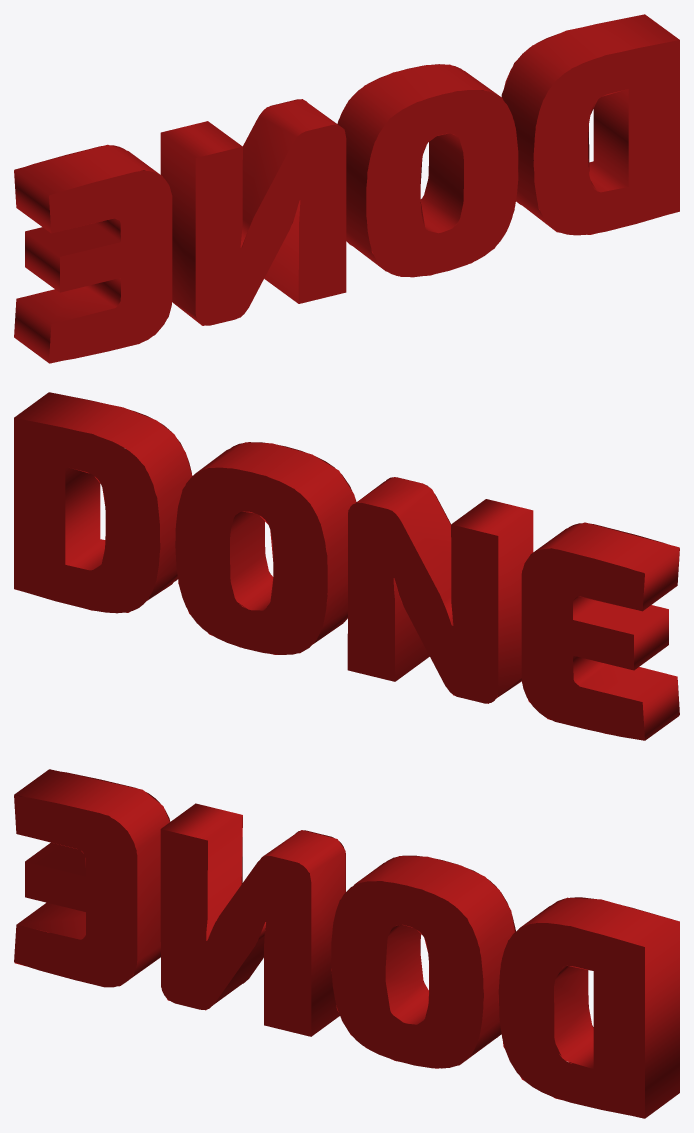
The model's file is done.fbx.
3 renders of one model, top to bottom at view 1: azimuth 30°, elevation 25°; view 2: azimuth 150°, elevation 25°; view 3: azimuth 330°, elevation 25°, orthographic.
Visible parts, largest first — view 1: Text; view 2: Text; view 3: Text.
Boxes of the visible parts, left/top/right/bottom form: Text: left=14, top=14, right=679, bottom=363; Text: left=14, top=392, right=679, bottom=740; Text: left=14, top=769, right=679, bottom=1118.
Bounding box in the file's own units: 8.34 × 2.25 × 0.8.
